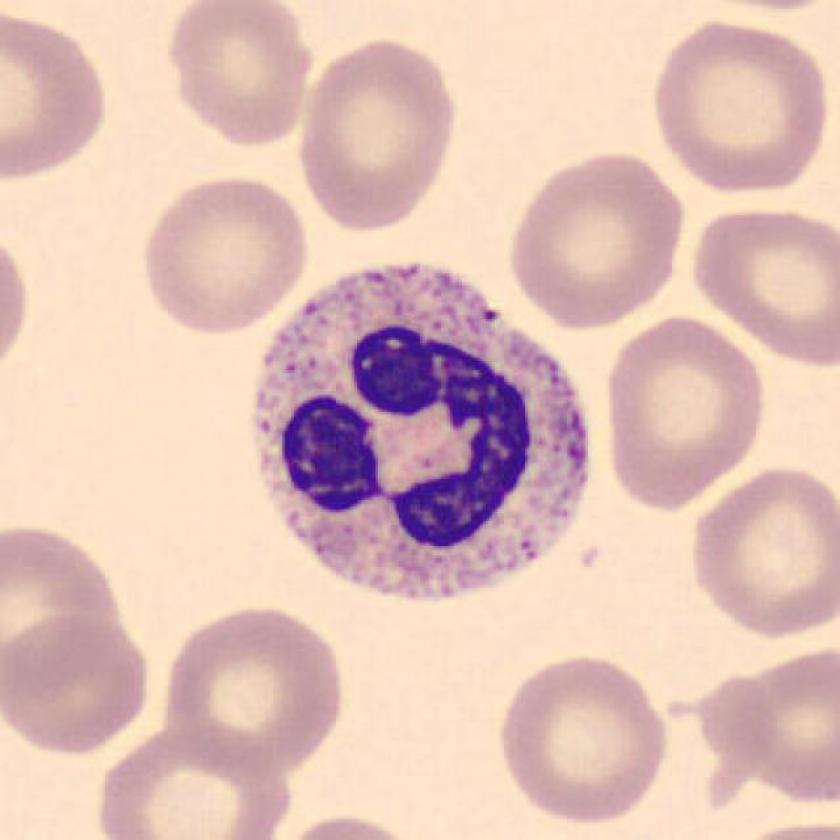neutrophil: (258, 265, 588, 601)
